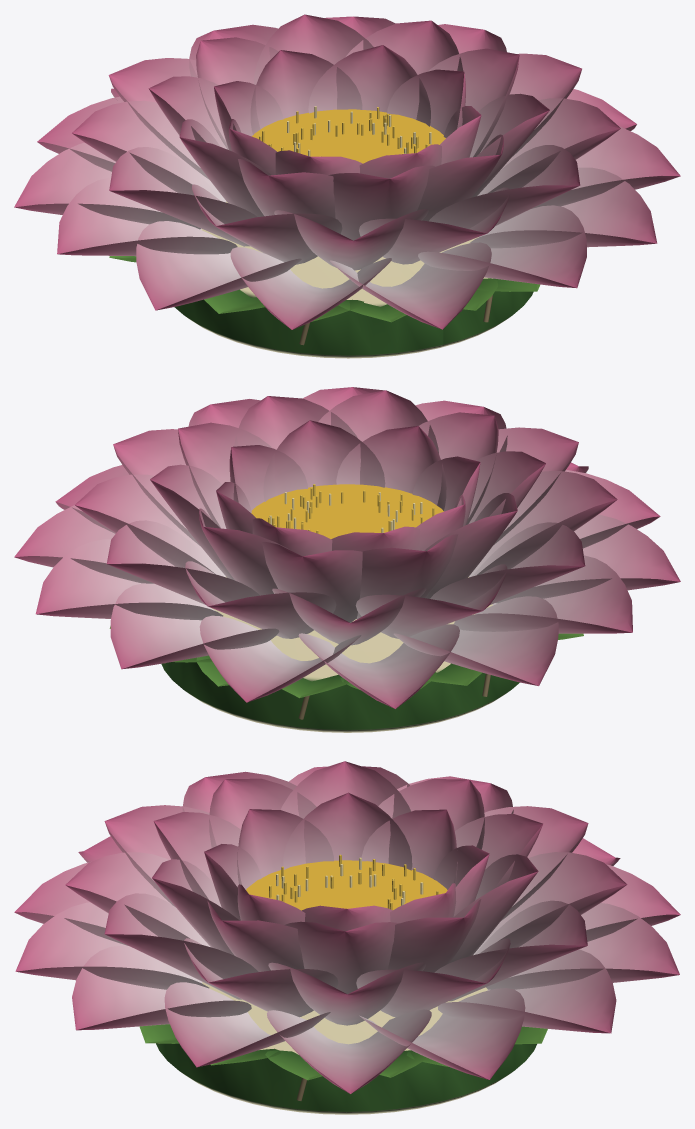
Rendered from lotus.glb.
The picture shows the model from 3 angles, top to bottom: view 1: azimuth 30°, elevation 25°; view 2: azimuth 150°, elevation 25°; view 3: azimuth 270°, elevation 25°; orthographic projection. The views are drawn at different scales.
Visible parts, largest first — view 1: petals_outer, petals_middle, petals_inner, petals_core, base_trunk, stamen_center, leaf_skirt; view 2: petals_outer, petals_middle, petals_inner, petals_core, base_trunk, stamen_center, leaf_skirt; view 3: petals_outer, petals_middle, petals_inner, petals_core, base_trunk, stamen_center, leaf_skirt.
Boxes of the visible parts, <box> form: petals_outer: <box>14,88,680,329</box>; petals_middle: <box>72,16,620,270</box>; petals_inner: <box>148,14,549,240</box>; petals_core: <box>214,45,481,178</box>; base_trunk: <box>174,201,533,358</box>; stamen_center: <box>252,106,445,163</box>; leaf_skirt: <box>109,256,539,322</box>; petals_outer: <box>14,462,680,708</box>; petals_middle: <box>75,387,617,645</box>; petals_inner: <box>150,390,545,622</box>; petals_core: <box>216,420,480,618</box>; base_trunk: <box>161,576,519,732</box>; stamen_center: <box>251,484,443,538</box>; leaf_skirt: <box>109,626,583,698</box>; petals_outer: <box>14,836,680,1093</box>; petals_middle: <box>65,766,627,1025</box>; petals_inner: <box>152,761,542,994</box>; petals_core: <box>204,792,489,931</box>; base_trunk: <box>156,982,536,1114</box>; stamen_center: <box>246,854,447,910</box>; leaf_skirt: <box>139,1024,547,1080</box>.
Size of the model in its own units: 0.951 by 0.2922 by 0.9281.
